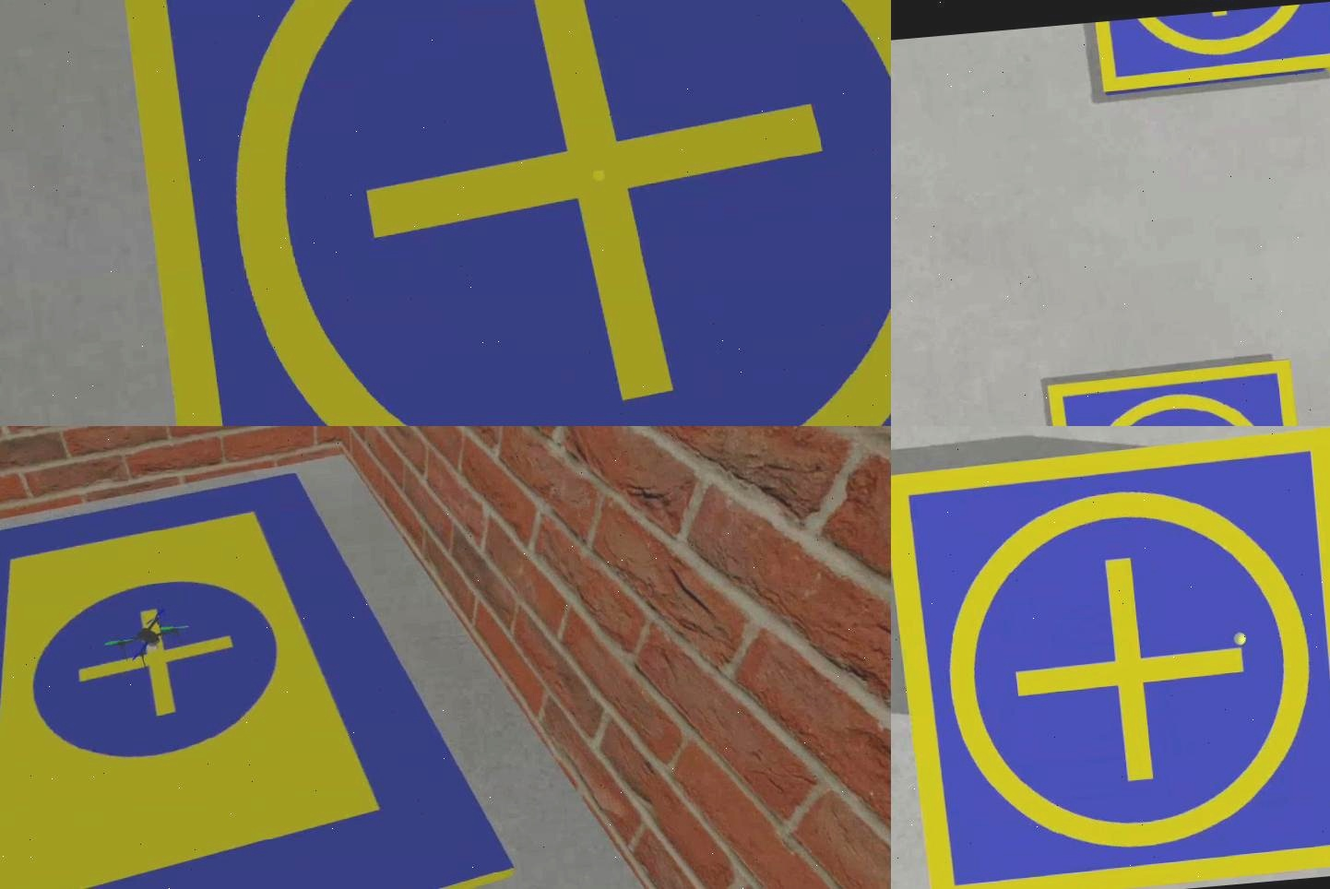large_base: (1, 455, 526, 889)
small_base: (101, 1, 892, 426), (892, 426, 1330, 889), (1097, 1, 1330, 96), (1050, 360, 1316, 426)
